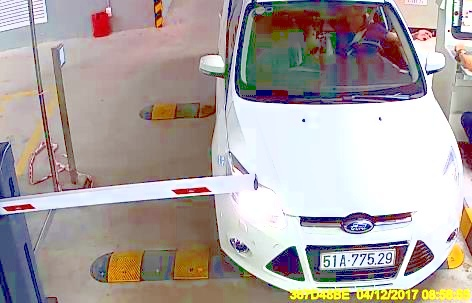plate: (319, 244, 394, 269)
